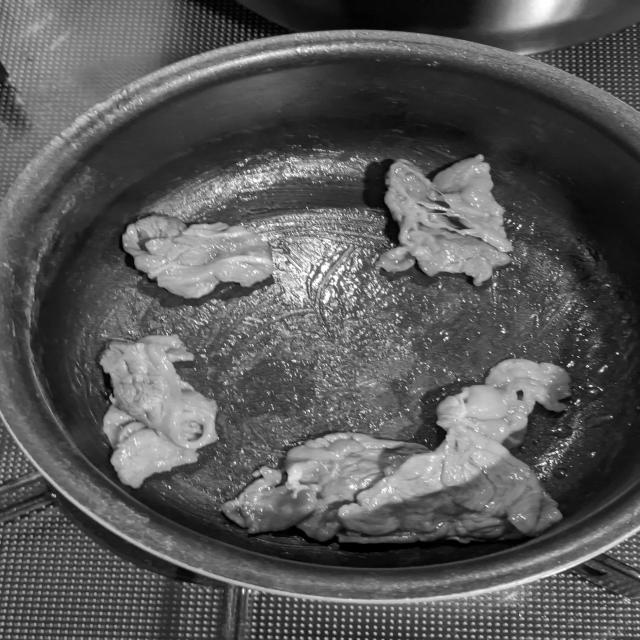NG undercooked beef,: (207, 354, 571, 544)
OK undercooked beef,: (92, 327, 227, 491), (375, 142, 519, 292), (114, 212, 284, 303)
